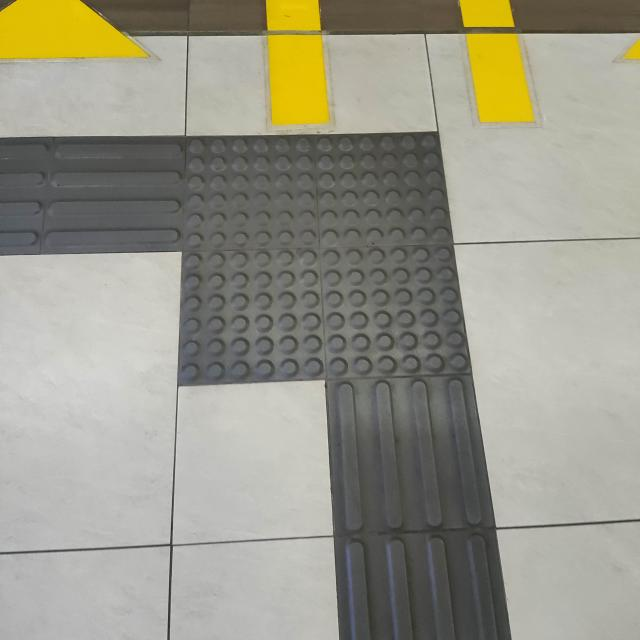kiri: (0, 52, 555, 486)
